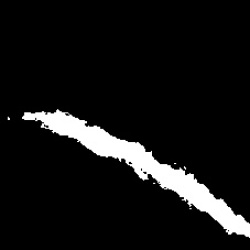crack: (22, 109, 250, 239)
pinhole: (6, 115, 12, 124)
